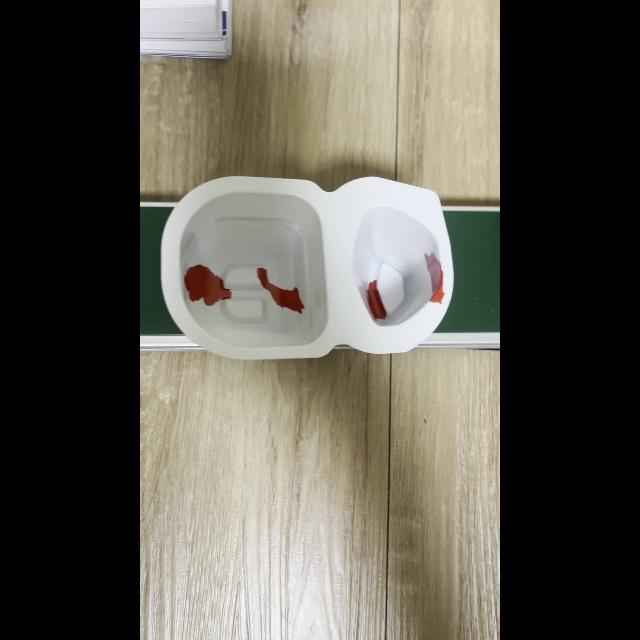dirty: (168, 202, 452, 350)
